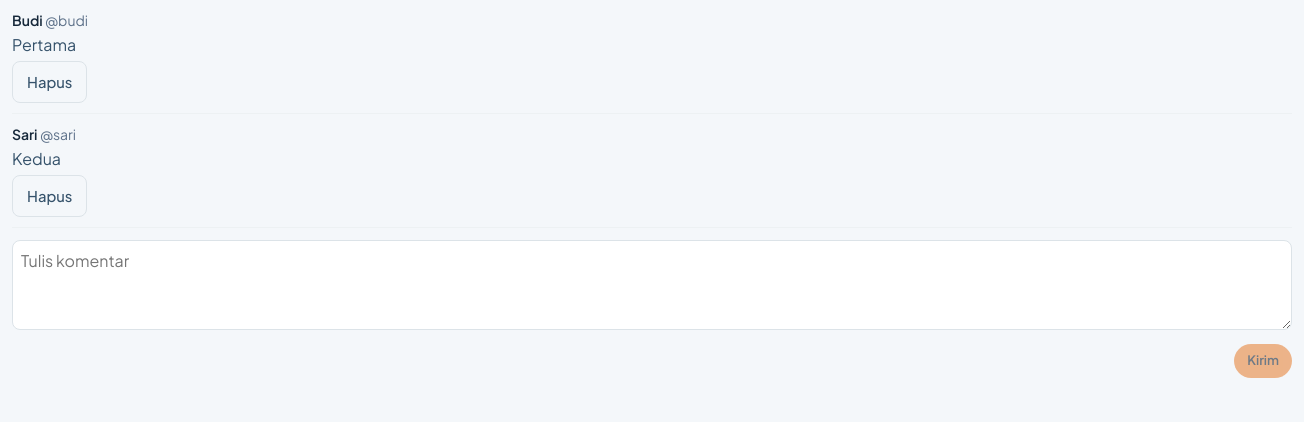
Scenario: CommentList › keeps the row and shows an alert when the delete fails
Click the button "Hapus" below "Pertama". click: {"x": 50, "y": 82}
box: top-left (12, 61), bottom-right (87, 103)
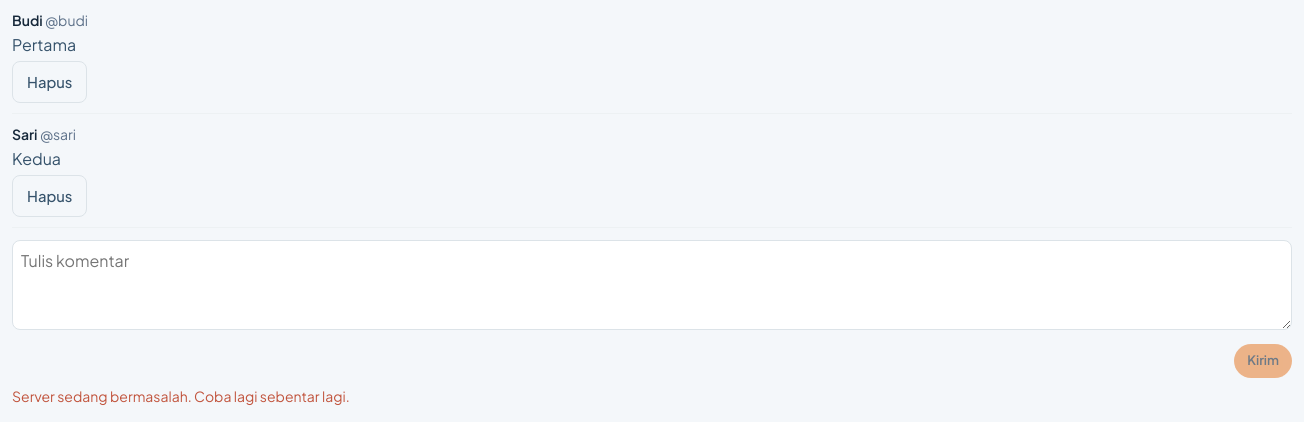
Expected: the number of list items is 2, top-left (12, 0), bottom-right (1292, 114); top-left (12, 114), bottom-right (1292, 228)
Now the message reads "Server sedang bermasalah. Coba lagi sebentar lagi.", box top-left (12, 387), bottom-right (350, 405)
